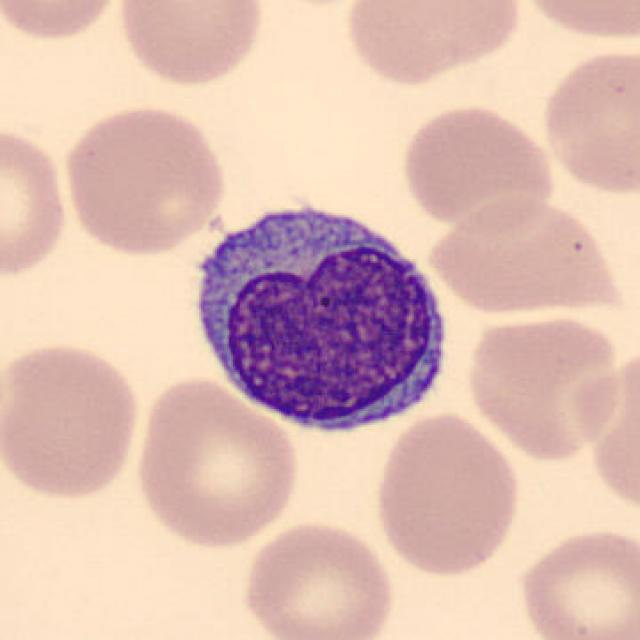Monocyte: (180, 185, 458, 446)
RBC: (130, 372, 304, 552), (57, 100, 231, 258), (423, 192, 628, 319), (460, 310, 628, 464), (370, 411, 524, 578), (0, 337, 144, 504), (395, 99, 558, 231), (238, 516, 398, 640), (340, 0, 526, 88), (537, 42, 638, 200), (512, 523, 638, 640), (112, 0, 268, 90), (572, 337, 640, 520), (0, 122, 71, 284), (0, 0, 126, 46), (512, 0, 638, 42)
